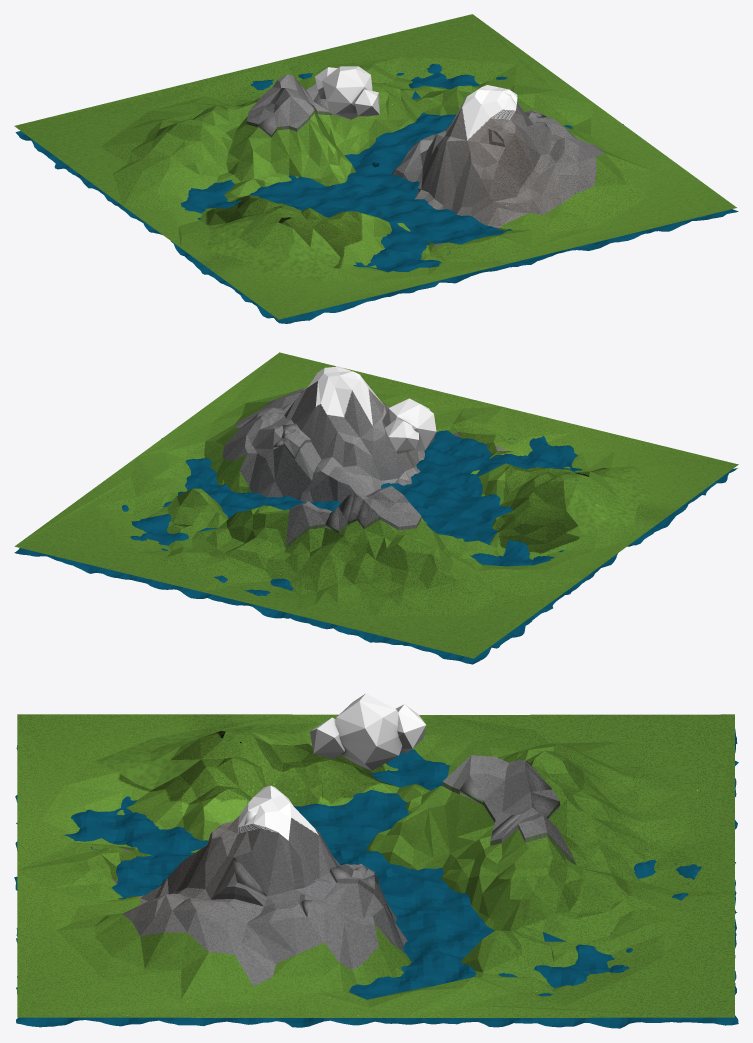
The model's file is landscape_2.glb.
3 renders of one model, top to bottom at view 1: azimuth 30°, elevation 25°; view 2: azimuth 150°, elevation 25°; view 3: azimuth 270°, elevation 25°, orthographic. The views are drawn at different scales.
Visible parts, largest first — view 1: Landscape, Landscape_plane, cloud 4; view 2: Landscape, Landscape_plane, cloud 4; view 3: Landscape, Landscape_plane, cloud 4.
Boxes of the visible parts, x1,y1,x2,y2 form: Landscape: (14,14,736,319); Landscape_plane: (15,64,738,323); cloud 4: (315,66,379,119); Landscape: (14,352,738,658); Landscape_plane: (14,430,737,664); cloud 4: (382,398,436,453); Landscape: (17,714,734,1017); Landscape_plane: (14,729,738,1028); cloud 4: (310,693,426,770).
Bounding box in the file's own units: 10.15 × 2.77 × 10.1.
Materials: 5 (4 with a texture image).
